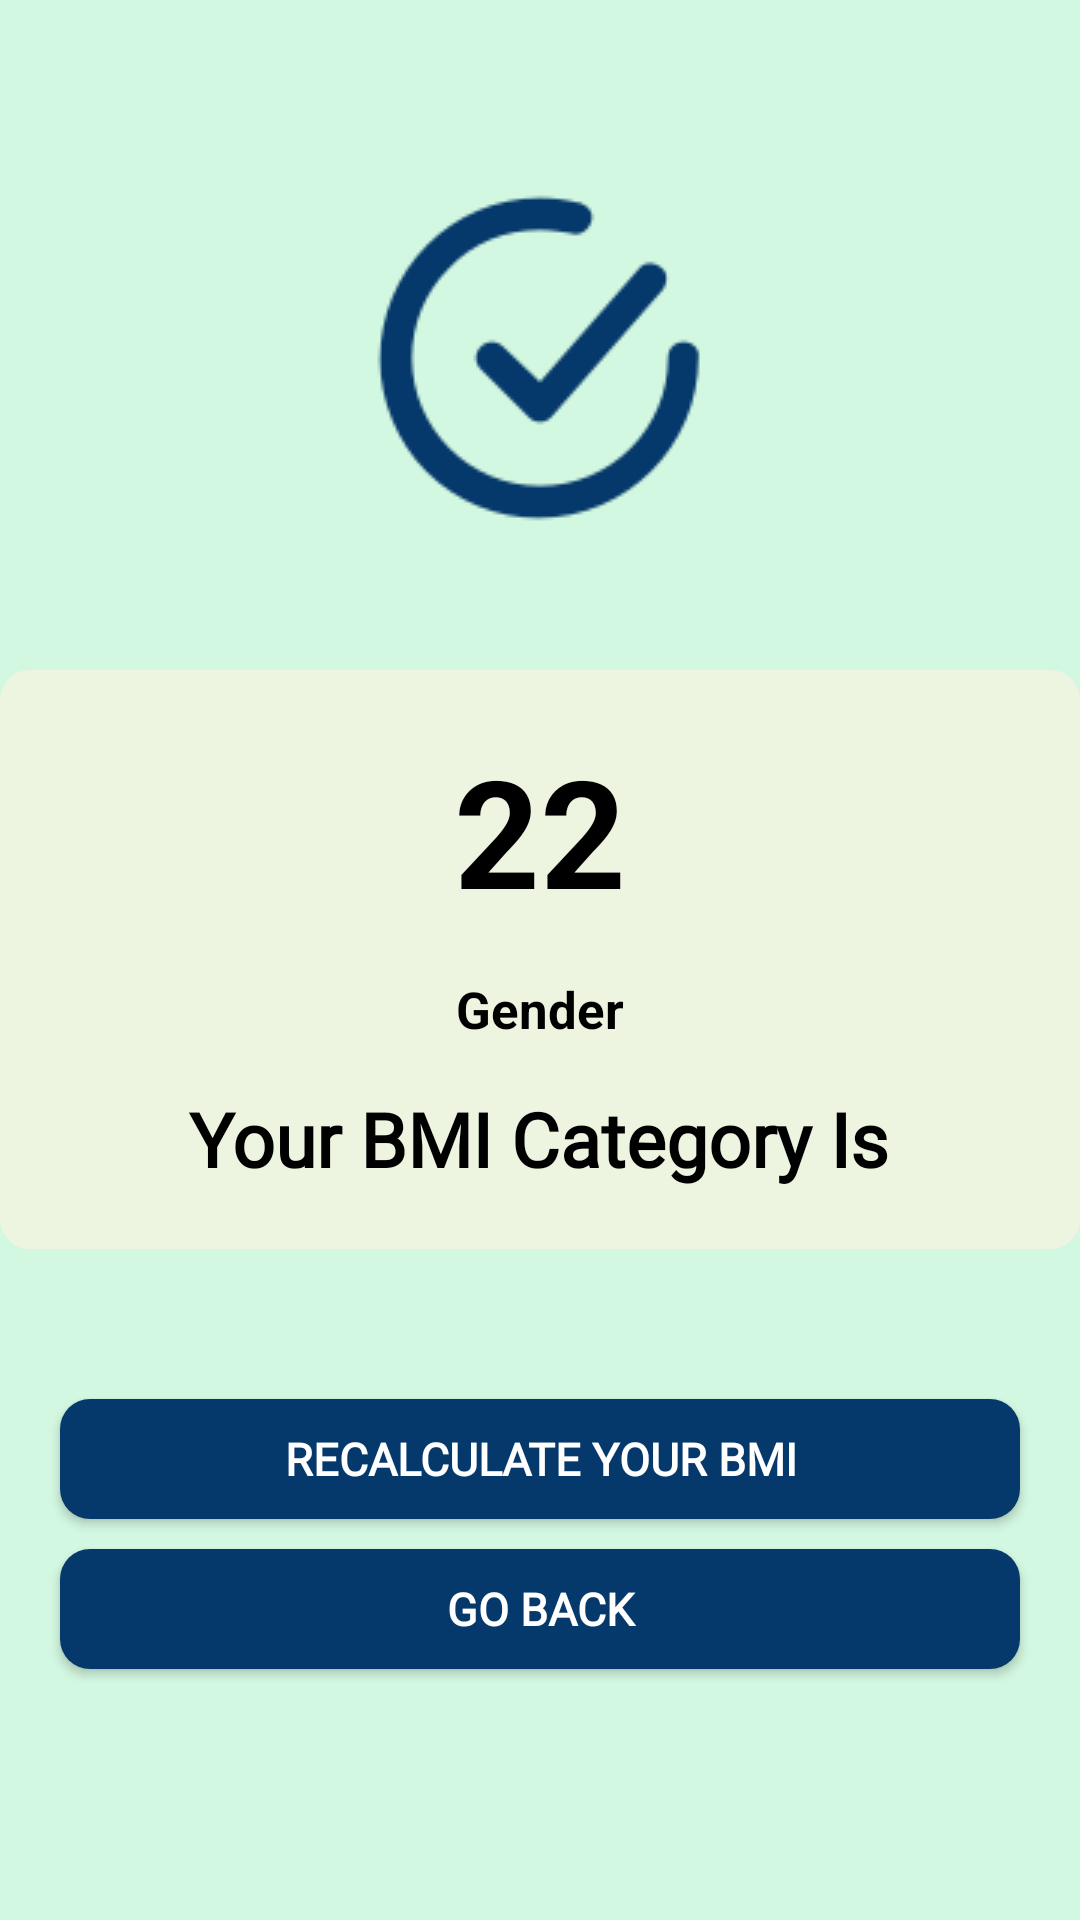

Icon click points for this 1080 x 1920 phone screenshot, format [x,y]:
checkmark: [539,358]
